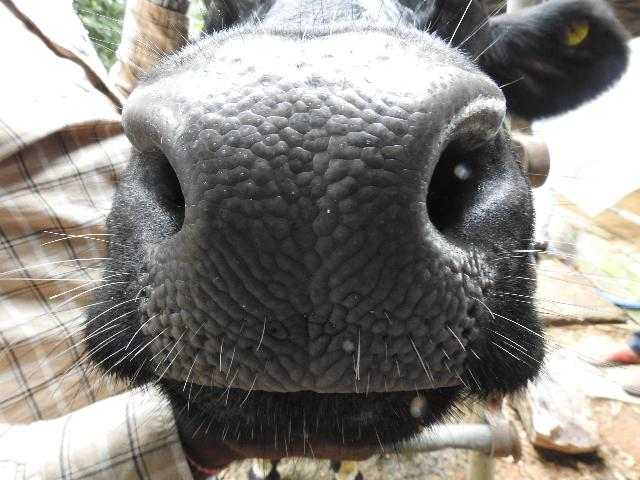Muzzle: (175, 82, 427, 388)
